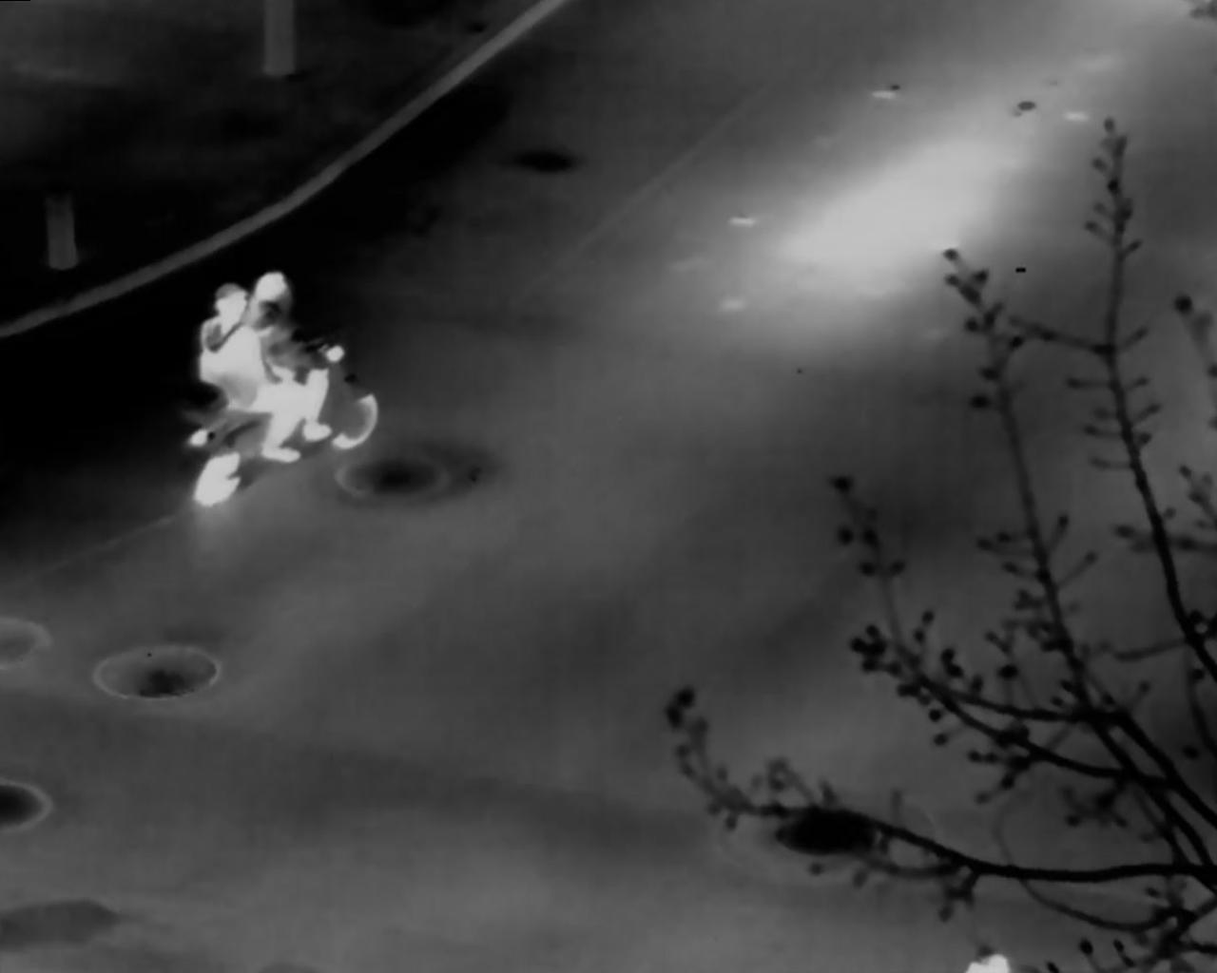person: (195, 282, 302, 463), (254, 270, 341, 440)
